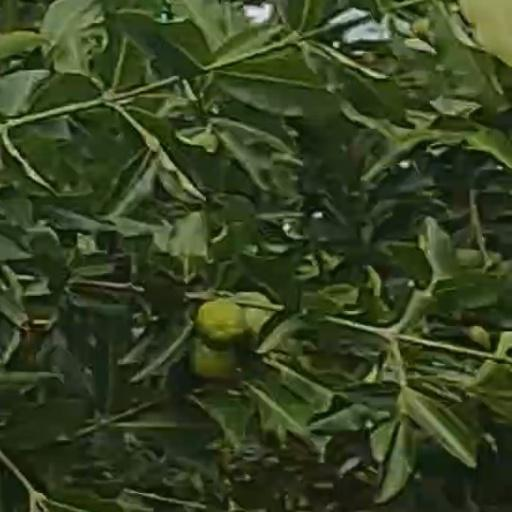acerola_verde: (197, 298, 246, 343), (193, 346, 236, 378)
